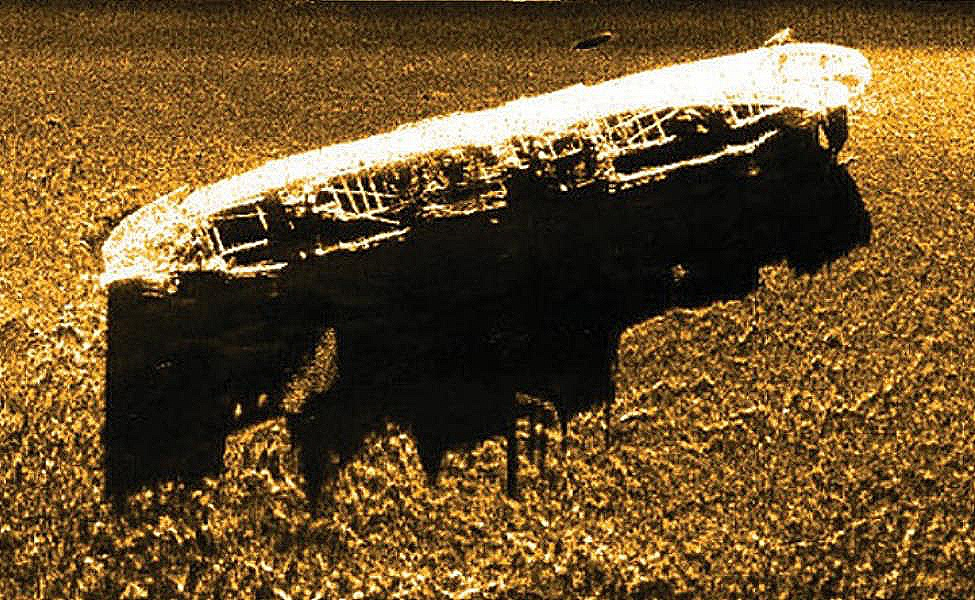ship: (96, 26, 874, 306)
